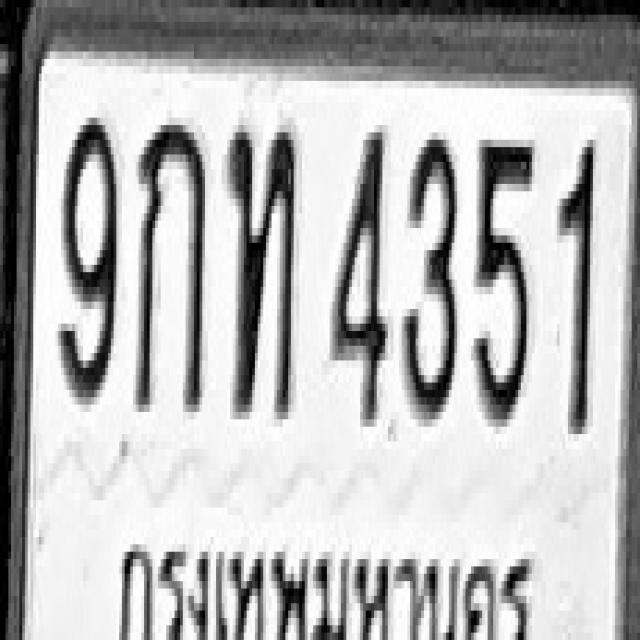1: (557, 136, 596, 430)
10GorGai: (133, 118, 205, 412)
3: (402, 133, 457, 420)
32ThorThaHan: (226, 121, 295, 416)
4: (331, 125, 387, 419)
5: (472, 132, 534, 427)
9: (58, 110, 116, 405)
Bangkok: (110, 515, 536, 640)
